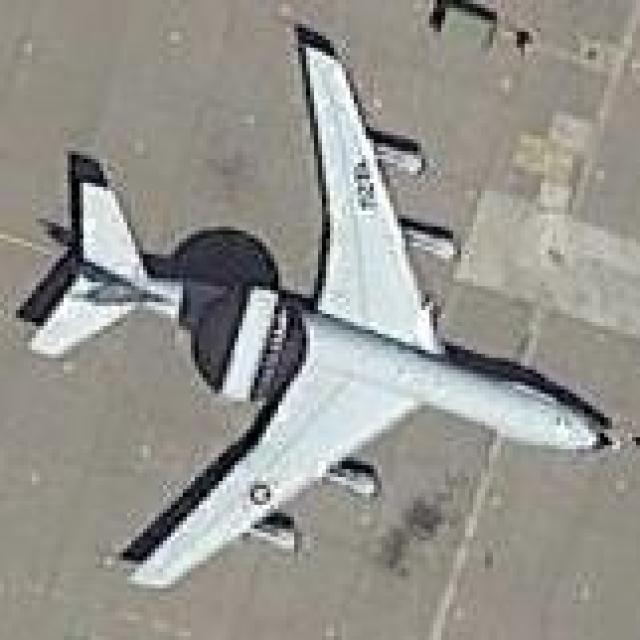E-3_TopDown: (12, 16, 620, 588)
